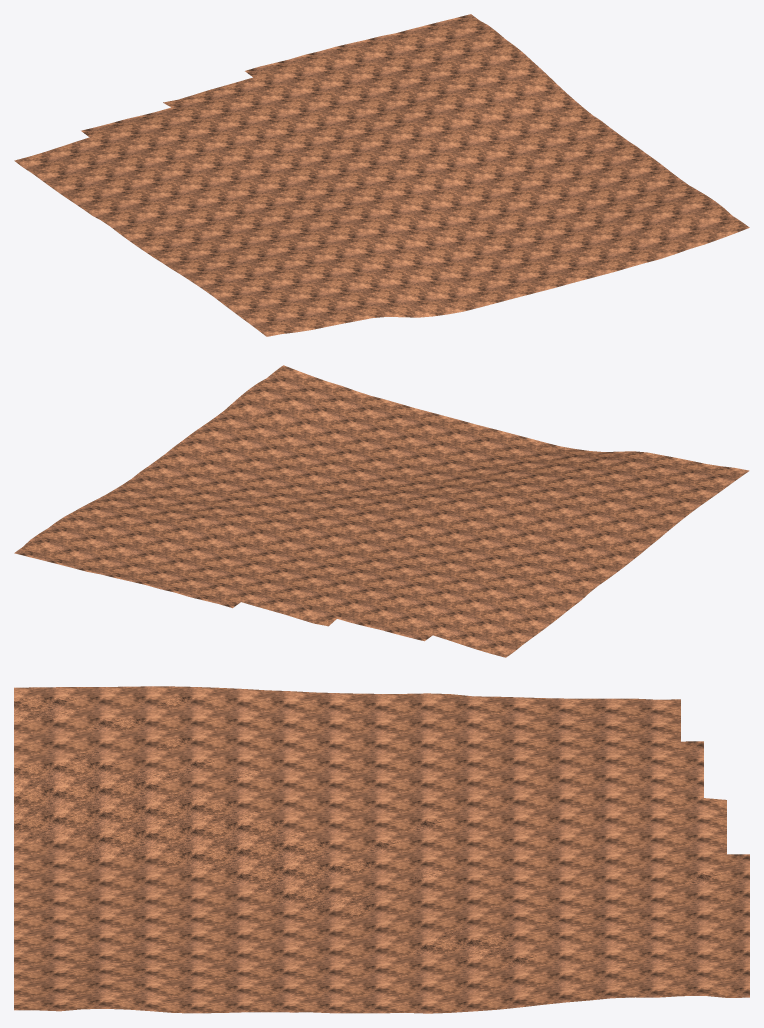
File: terrain_12_20.dae
3 views of the same model, one above another, from view 1: azimuth 30°, elevation 25°; view 2: azimuth 150°, elevation 25°; view 3: azimuth 270°, elevation 25° (orthographic). The views are drawn at different scales.
Visible parts, largest first — view 1: terrain_12_20-node; view 2: terrain_12_20-node; view 3: terrain_12_20-node.
Boxes of the visible parts, left/top/right/bottom form: terrain_12_20-node: left=14, top=14, right=749, bottom=336; terrain_12_20-node: left=14, top=365, right=749, bottom=657; terrain_12_20-node: left=14, top=686, right=749, bottom=1013.
Bounding box in the file's own units: 128 × 128 × 6.33.
1 material, 1 textured.
